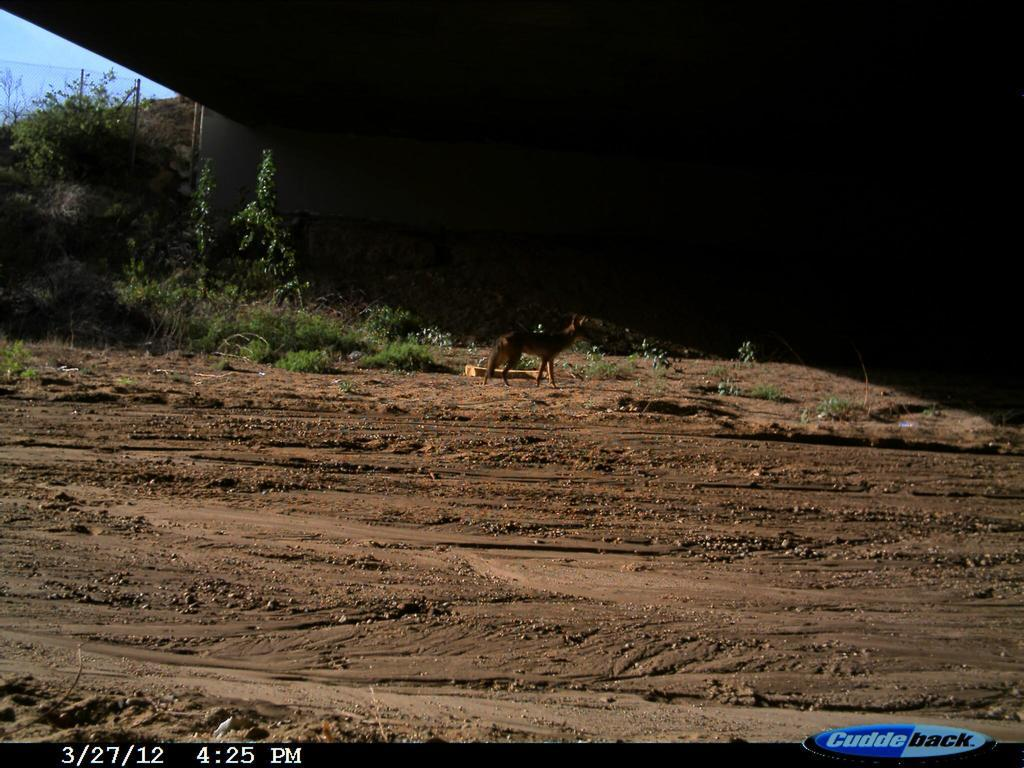coyote: (474, 301, 603, 409)
